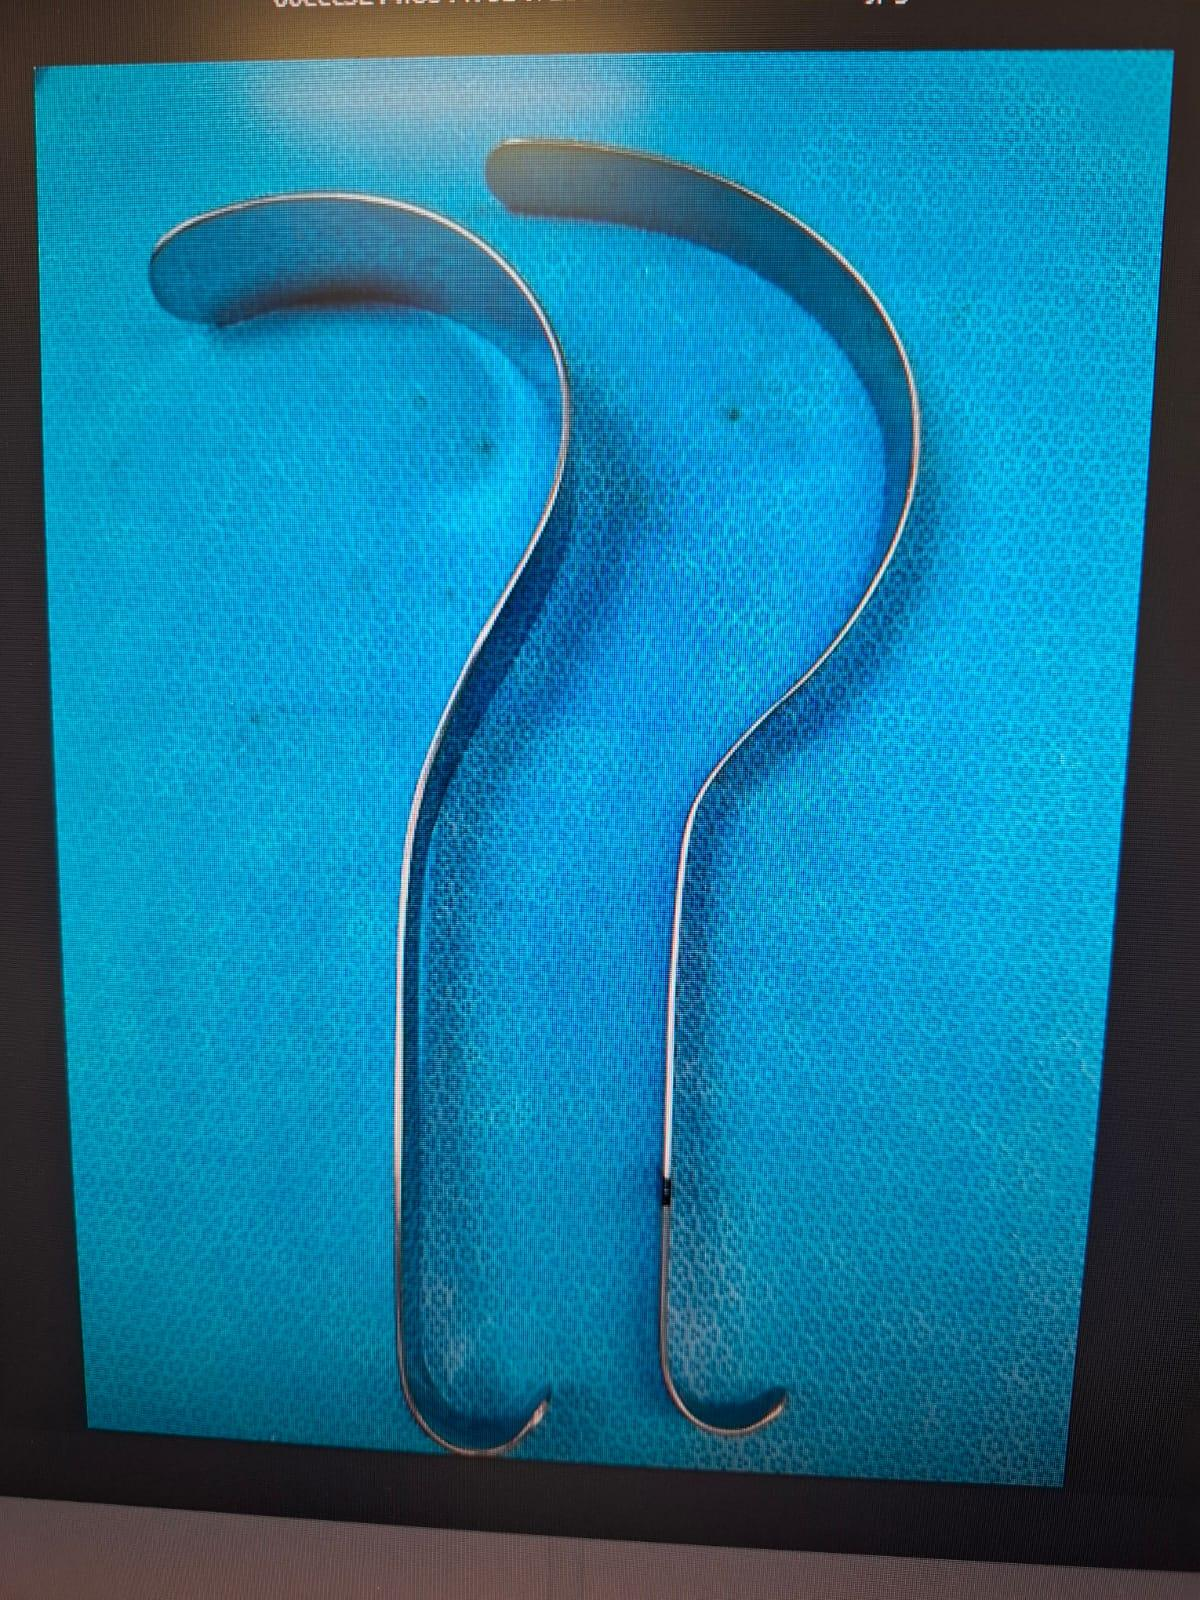Deaver Retractor: (480, 130, 933, 1443), (137, 180, 572, 1458)
